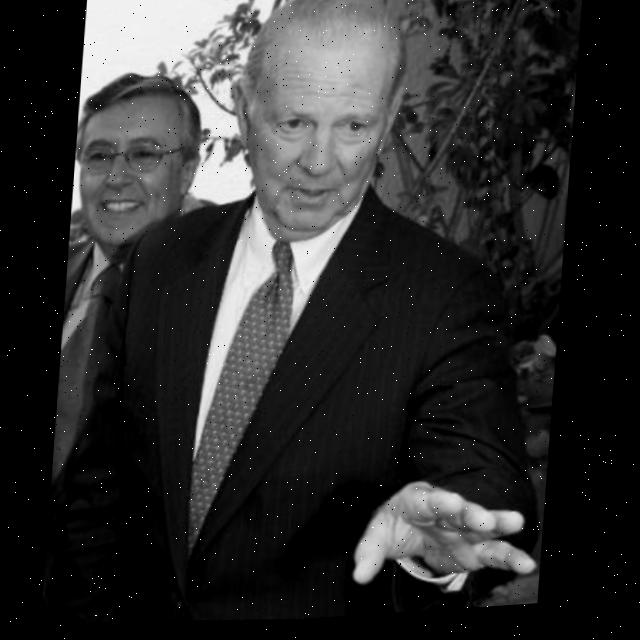face: (224, 19, 405, 247), (68, 78, 209, 258)
